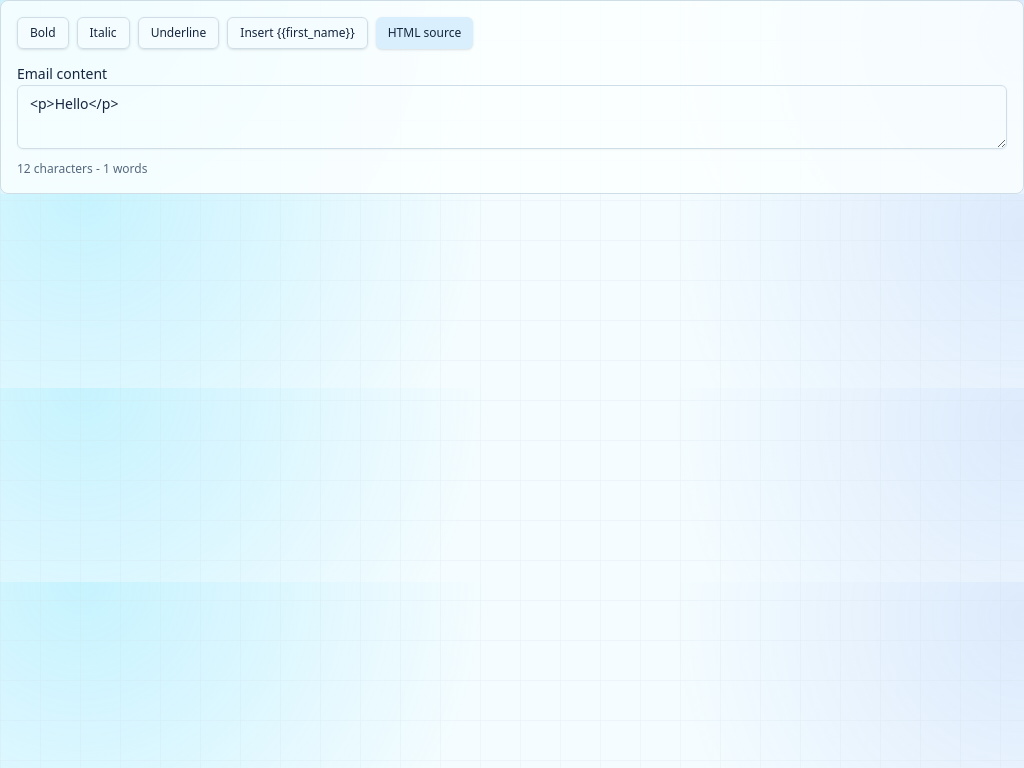
Test: EmailEditor › toggles html source mode
Click the button "HTML source". click: click(424, 33)
box: [376,17,473,49]
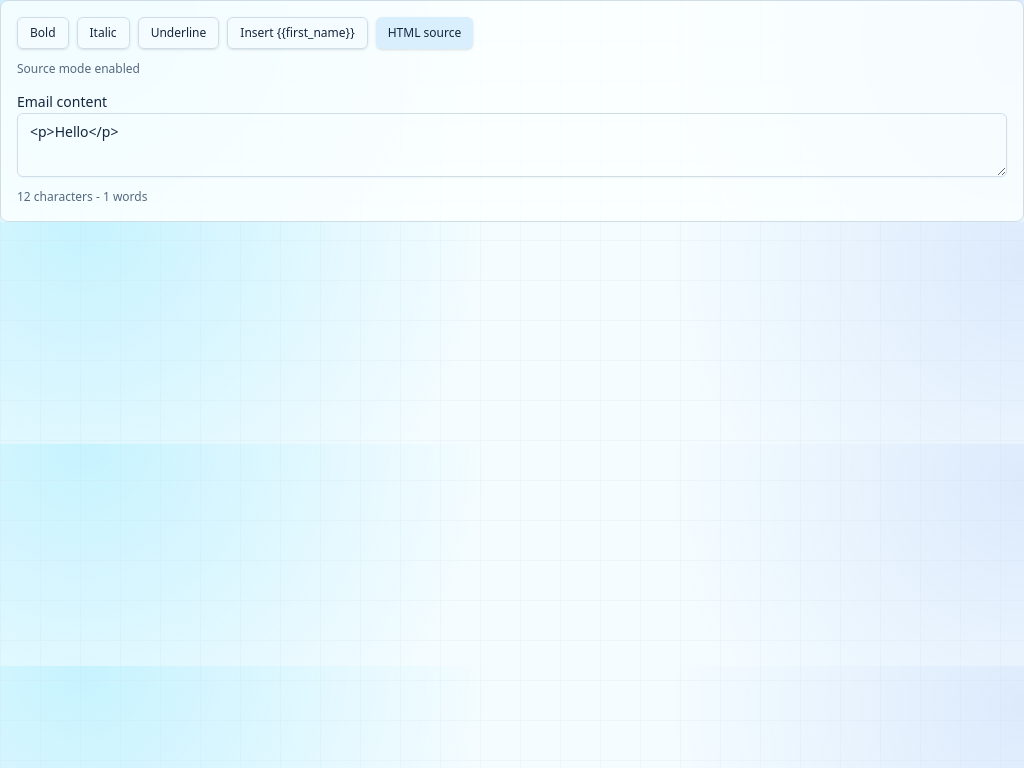
Check: the text "Source mode enabled" is shown, box [17,60,140,77]
